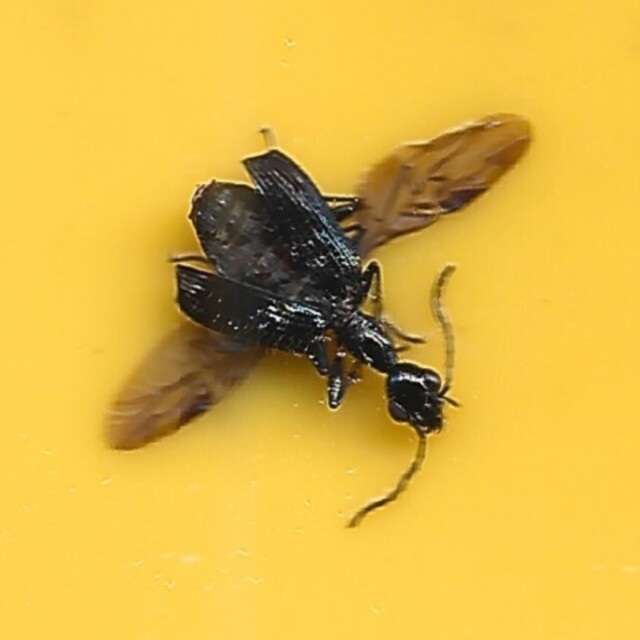Coleoptera: (103, 112, 537, 528)
